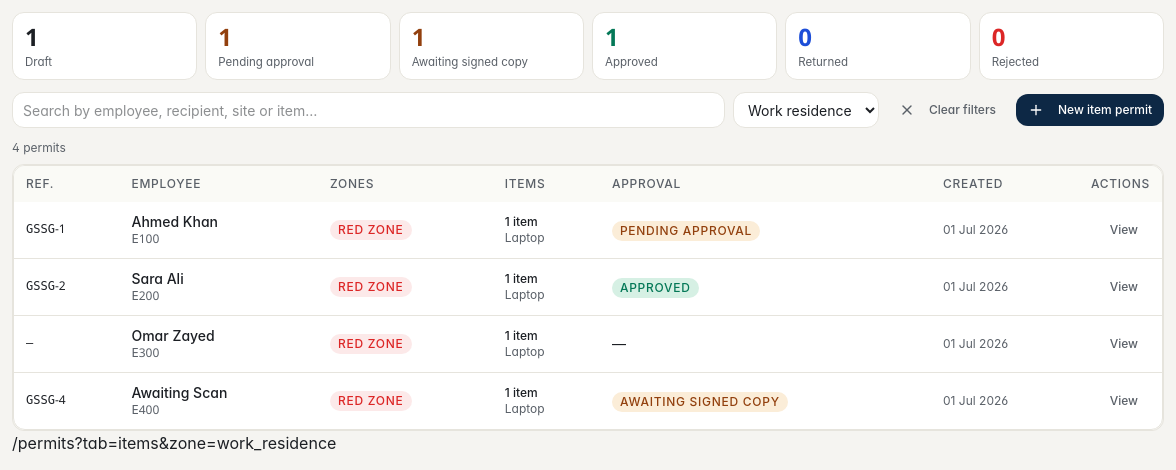
Test case: ItemPermitsTab › passes URL zone work_residence to the server and preserves it when selecting approval
Expected: the text "Ahmed Khan" is shown, [132,213,218,230]
Expected: the dropdown named "Zone" shows "Work residence", [733,92,879,128]
Click the button "1 Pending approval": (298, 46) [205,12,391,80]
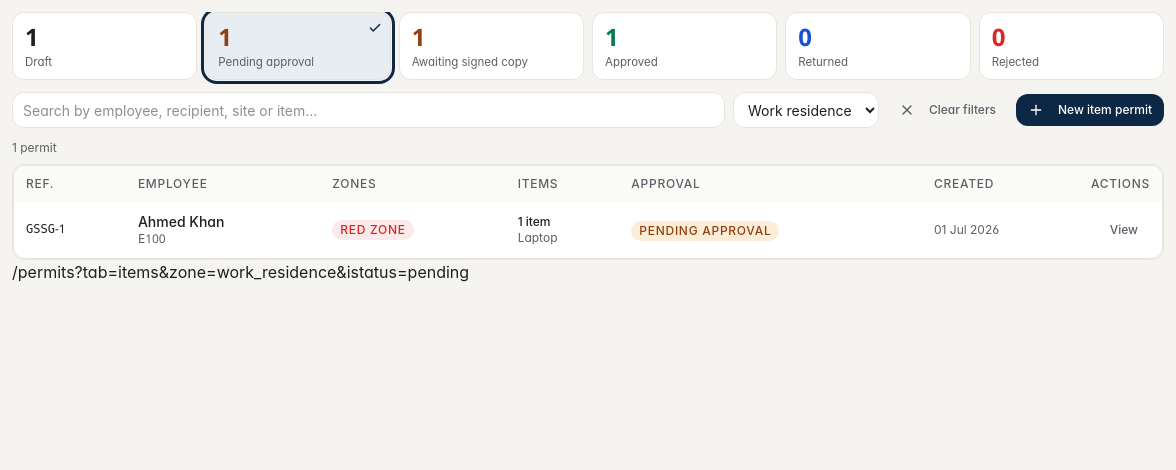
Now the text with test id "location" shows "istatus=pending", box [12,262,469,282]
Click the button "Clear filters": (947, 110) [887,94,1008,126]
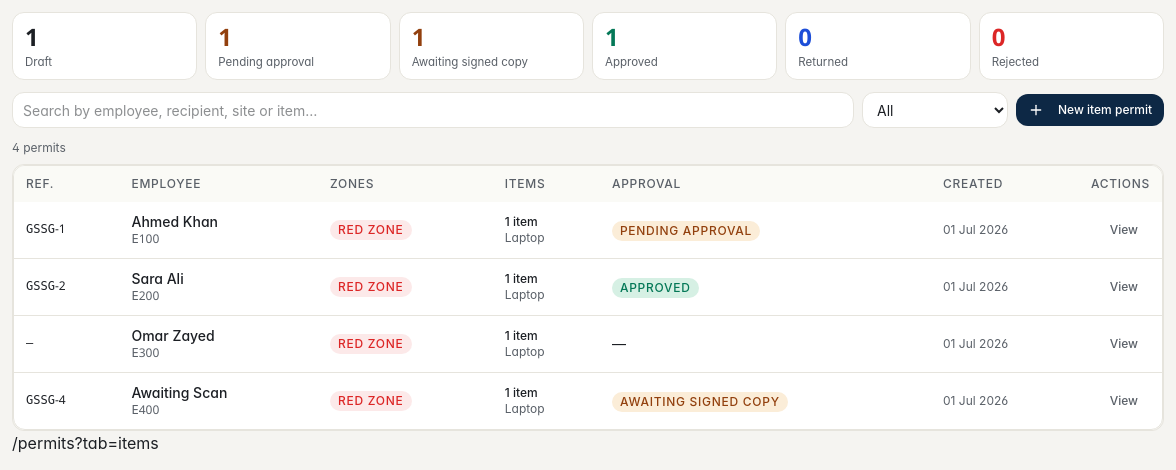
Now the text with test id "location" reads "/permits?tab=items", box [12,433,159,453]
